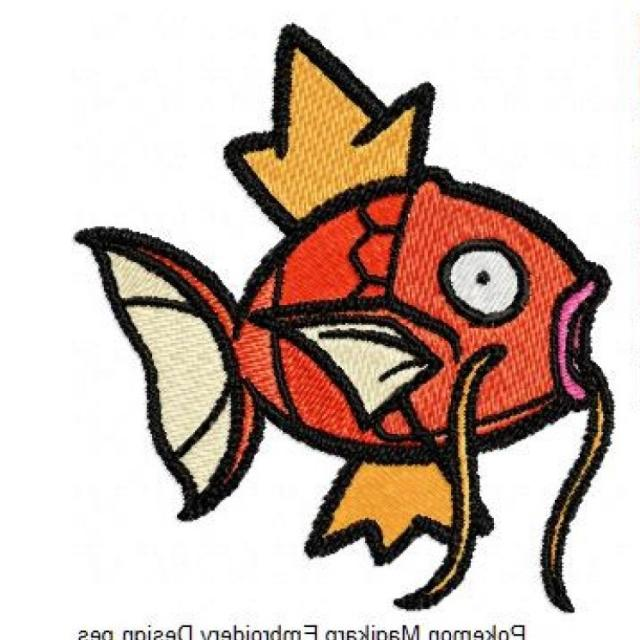Magikarp: (72, 178, 628, 552)
